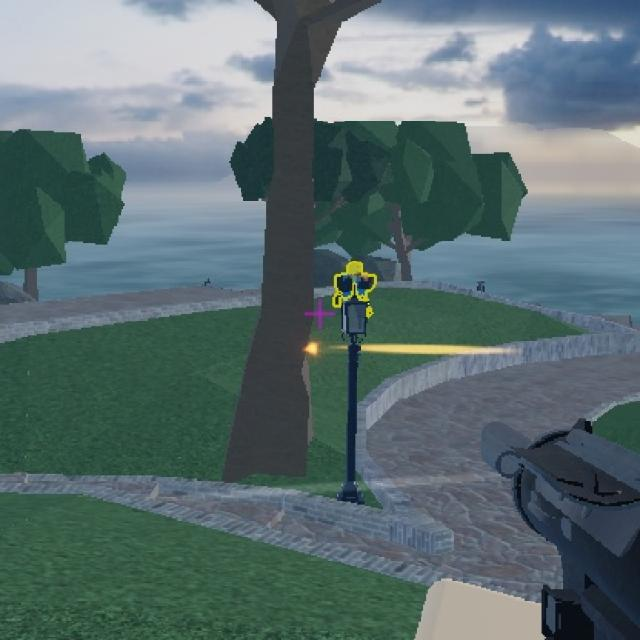player: (332, 257, 374, 303)
